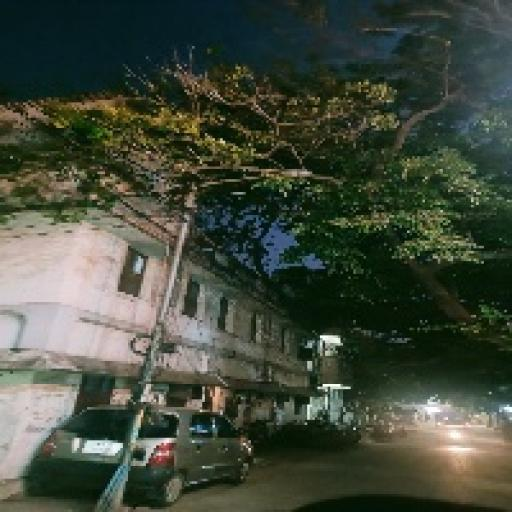Not Working: (266, 164, 316, 188)
